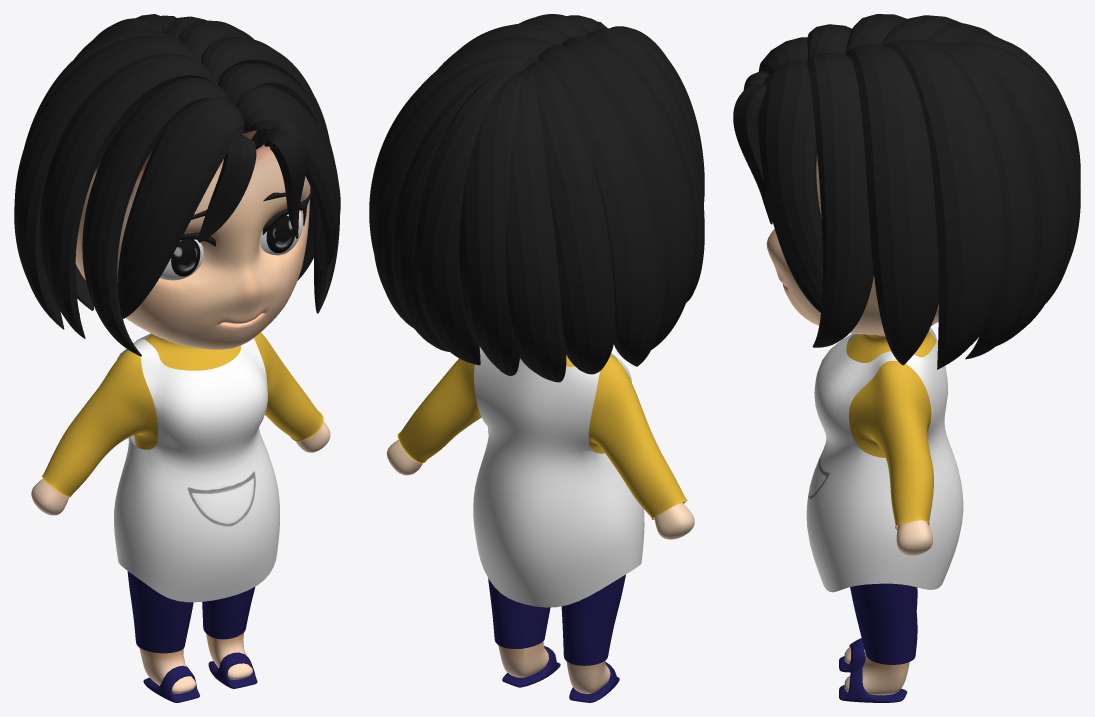
The model's file is ibu_mesh (1).fbx.
3 renders of one model, left to right at view 1: azimuth 30°, elevation 25°; view 2: azimuth 150°, elevation 25°; view 3: azimuth 270°, elevation 25°, orthographic. The views are drawn at different scales.
Parts seen in each view (by area): view 1: Base.005; view 2: Base.005; view 3: Base.005.
Boxes of the visible parts, x1=… form: Base.005: x1=14, y1=14, x2=340, y2=702; Base.005: x1=369, y1=14, x2=704, y2=702; Base.005: x1=733, y1=14, x2=1080, y2=702.
Bounding box in the file's own units: 72.35 × 150 × 72.78.
Materials: 7 (5 with a texture image).
